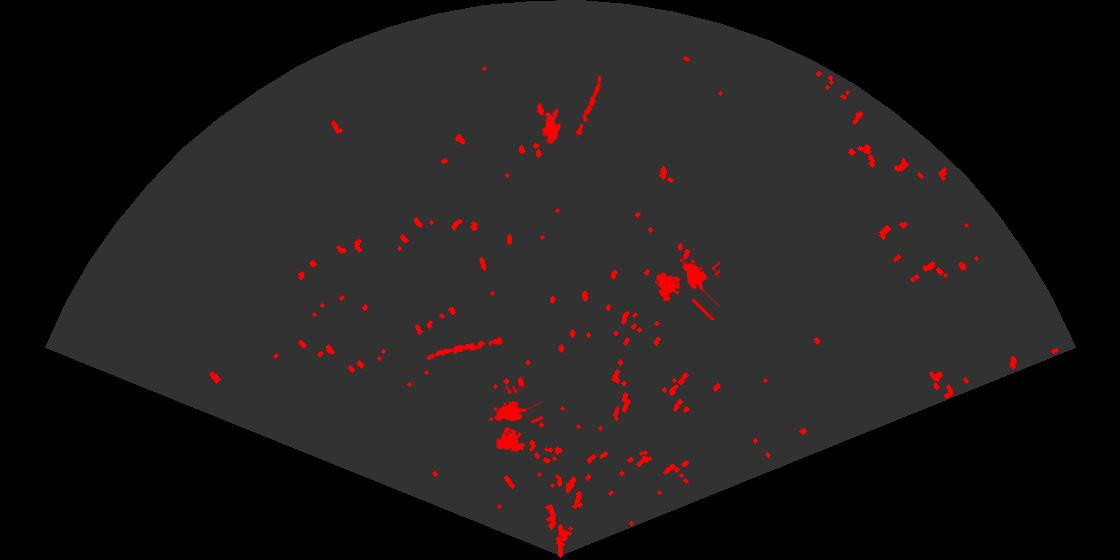AUV: (540, 107, 563, 146)
cage: (655, 257, 720, 320), (487, 386, 543, 453)
chain: (424, 335, 505, 362), (572, 73, 603, 141)
